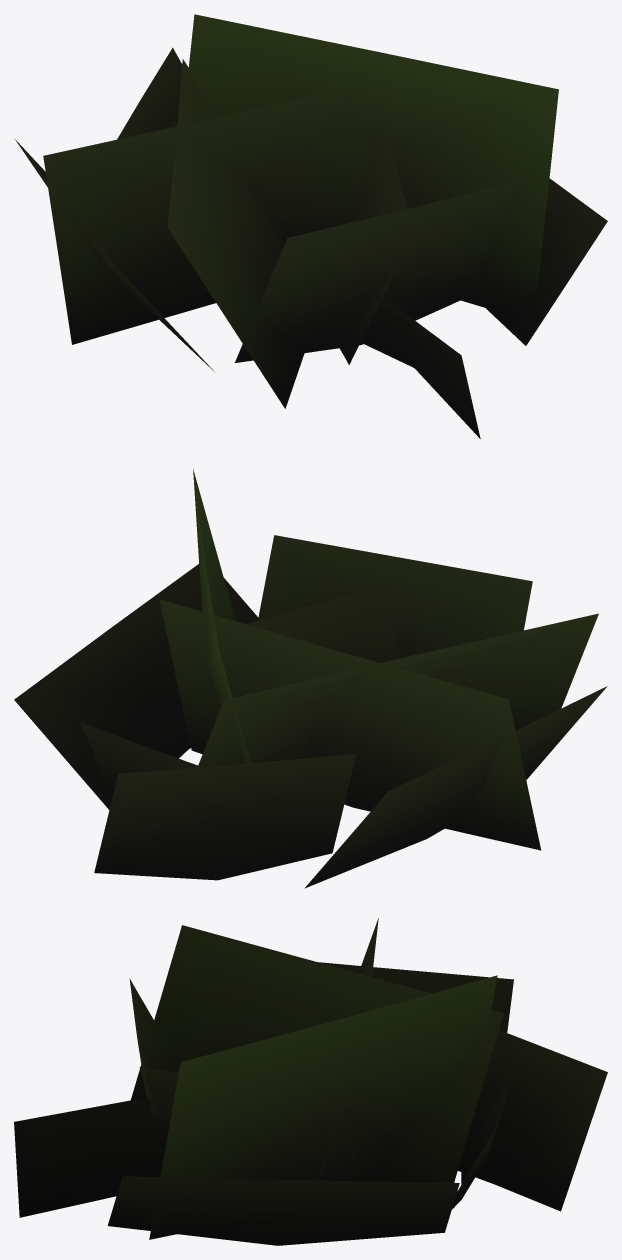
File: GrassDeadCATAM_A.fbx
3 renders of one model, top to bottom at view 1: azimuth 30°, elevation 25°; view 2: azimuth 150°, elevation 25°; view 3: azimuth 270°, elevation 25°, orthographic. The views are drawn at different scales.
Visible parts, largest first — view 1: GrassDeadCATAM_A; view 2: GrassDeadCATAM_A; view 3: GrassDeadCATAM_A.
Part boxes in pixels (bbox=[...]): GrassDeadCATAM_A: bbox=[14, 14, 607, 438]; GrassDeadCATAM_A: bbox=[14, 469, 607, 888]; GrassDeadCATAM_A: bbox=[14, 918, 607, 1245].
Size of the model in its own units: 1.07 by 0.5709 by 1.33.
